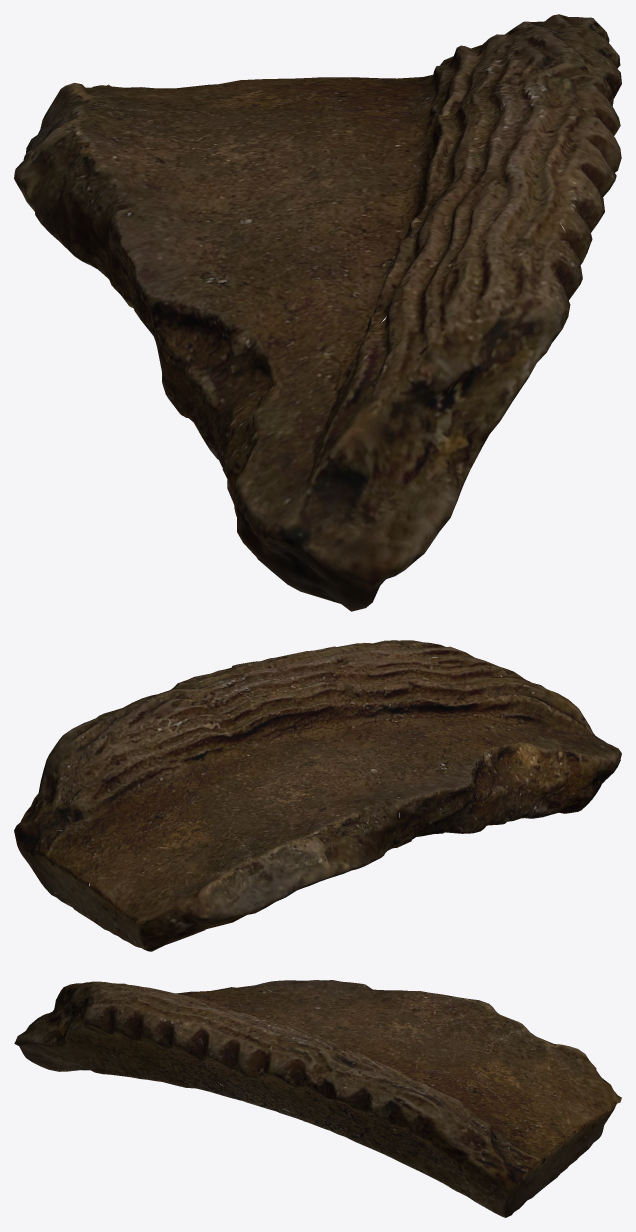
File: nkc.glb
The picture shows the model from 3 angles, top to bottom: view 1: azimuth 30°, elevation 25°; view 2: azimuth 150°, elevation 25°; view 3: azimuth 270°, elevation 25°; orthographic projection. The views are drawn at different scales.
Size of the model in its own units: 0.057 by 0.0219 by 0.0811.
Materials: 1 (1 with a texture image).
